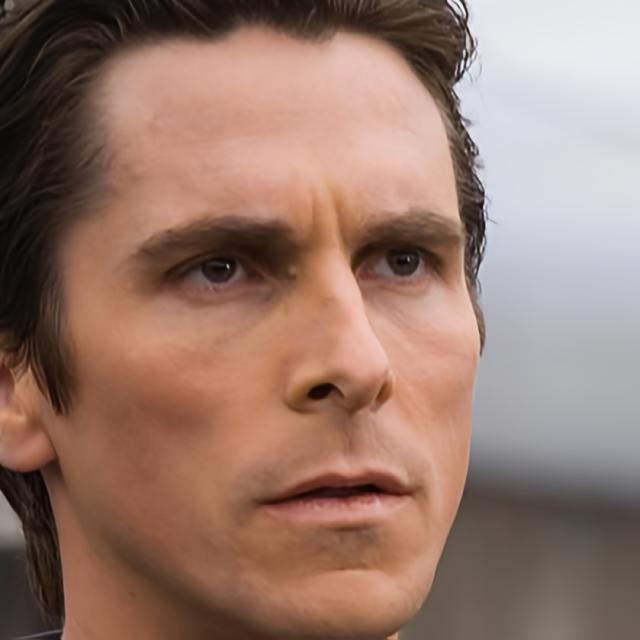anger: (68, 63, 482, 628)
